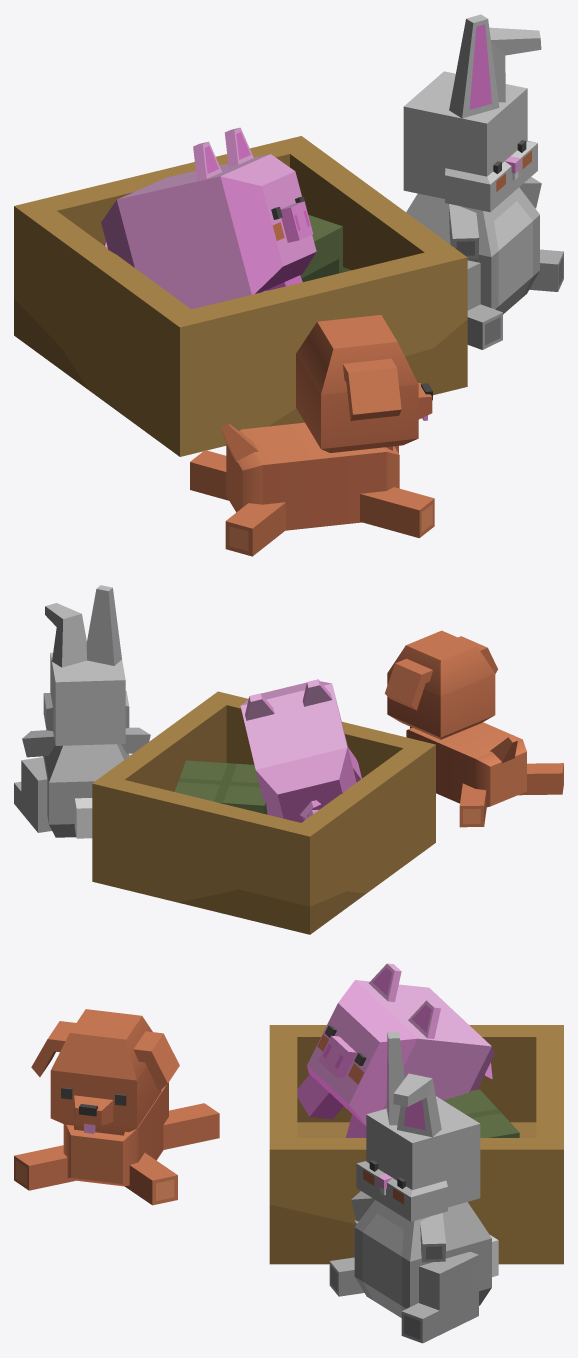
File: AI_Prop_Toybox.fbx
3 views of the same model, one above another, from view 1: azimuth 30°, elevation 25°; view 2: azimuth 150°, elevation 25°; view 3: azimuth 270°, elevation 25° (orthographic). The views are drawn at different scales.
Parts seen in each view (by area): view 1: AI_Prop_Toybox; view 2: AI_Prop_Toybox; view 3: AI_Prop_Toybox.
Part boxes in pixels (<box>): AI_Prop_Toybox: <box>14,14,563,556</box>; AI_Prop_Toybox: <box>14,585,563,934</box>; AI_Prop_Toybox: <box>14,963,563,1343</box>.
Size of the model in its own units: 2.43 by 1.3 by 2.45.
